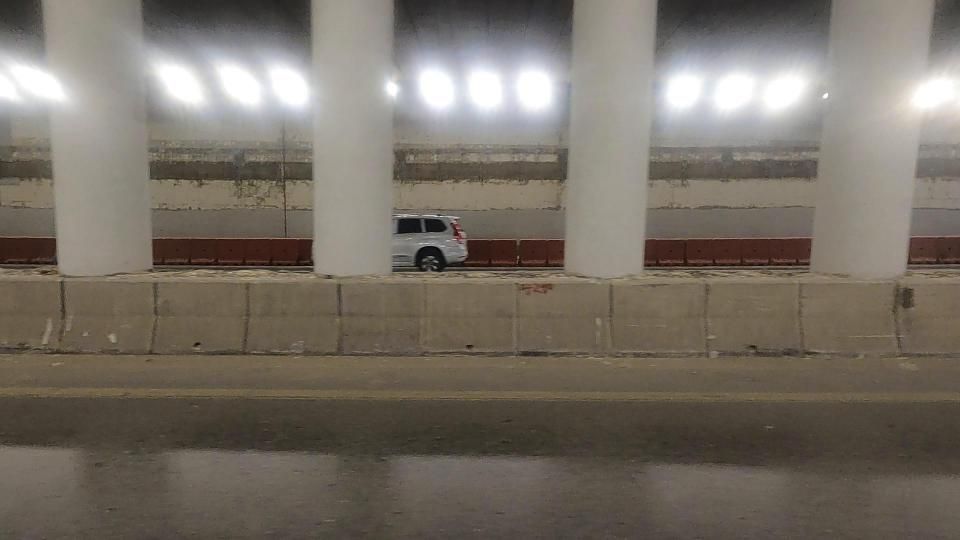CONSTRUCTION_ROAD: (582, 194, 870, 293), (115, 207, 350, 291), (438, 206, 605, 292)
